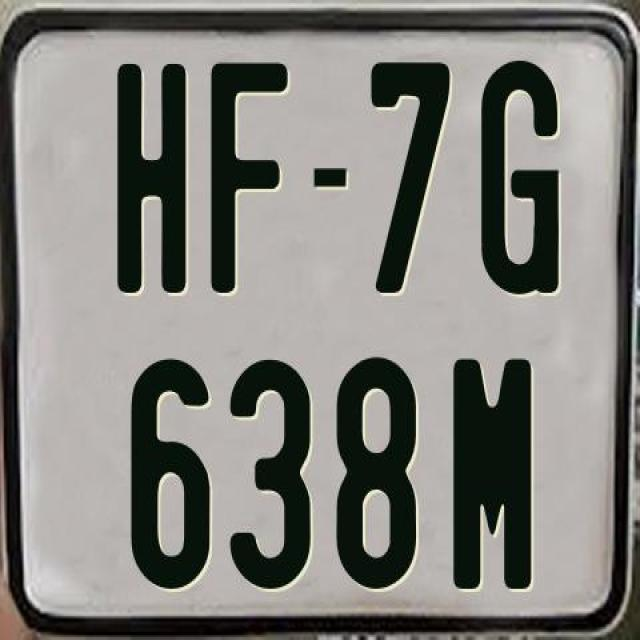3: (228, 355, 312, 589)
6: (129, 356, 207, 591)
7: (367, 59, 445, 297)
8: (335, 355, 419, 595)
F: (209, 61, 291, 296)
G: (482, 56, 562, 293)
H: (116, 64, 192, 294)
M: (452, 358, 534, 588)
